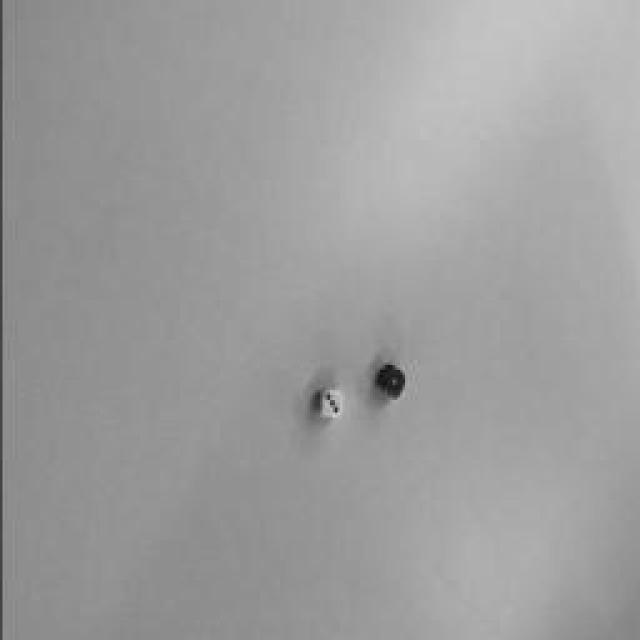dice_1: (384, 369, 404, 396)
dice_3: (321, 392, 341, 416)
